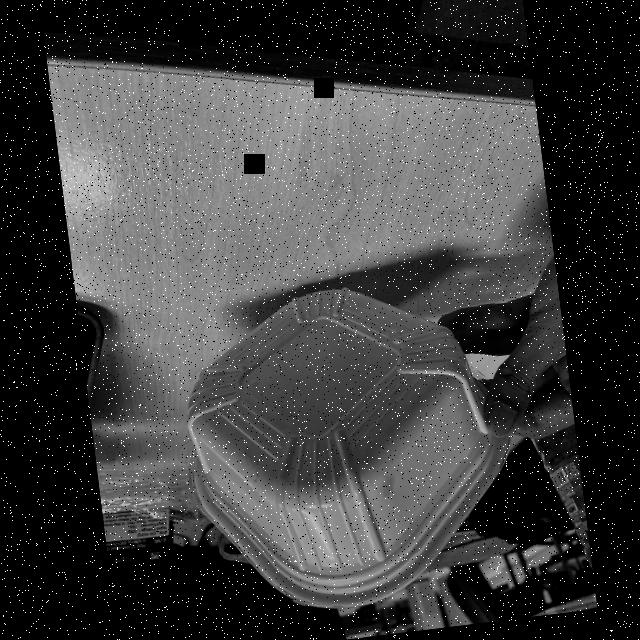plastic_box: (156, 266, 544, 624)
